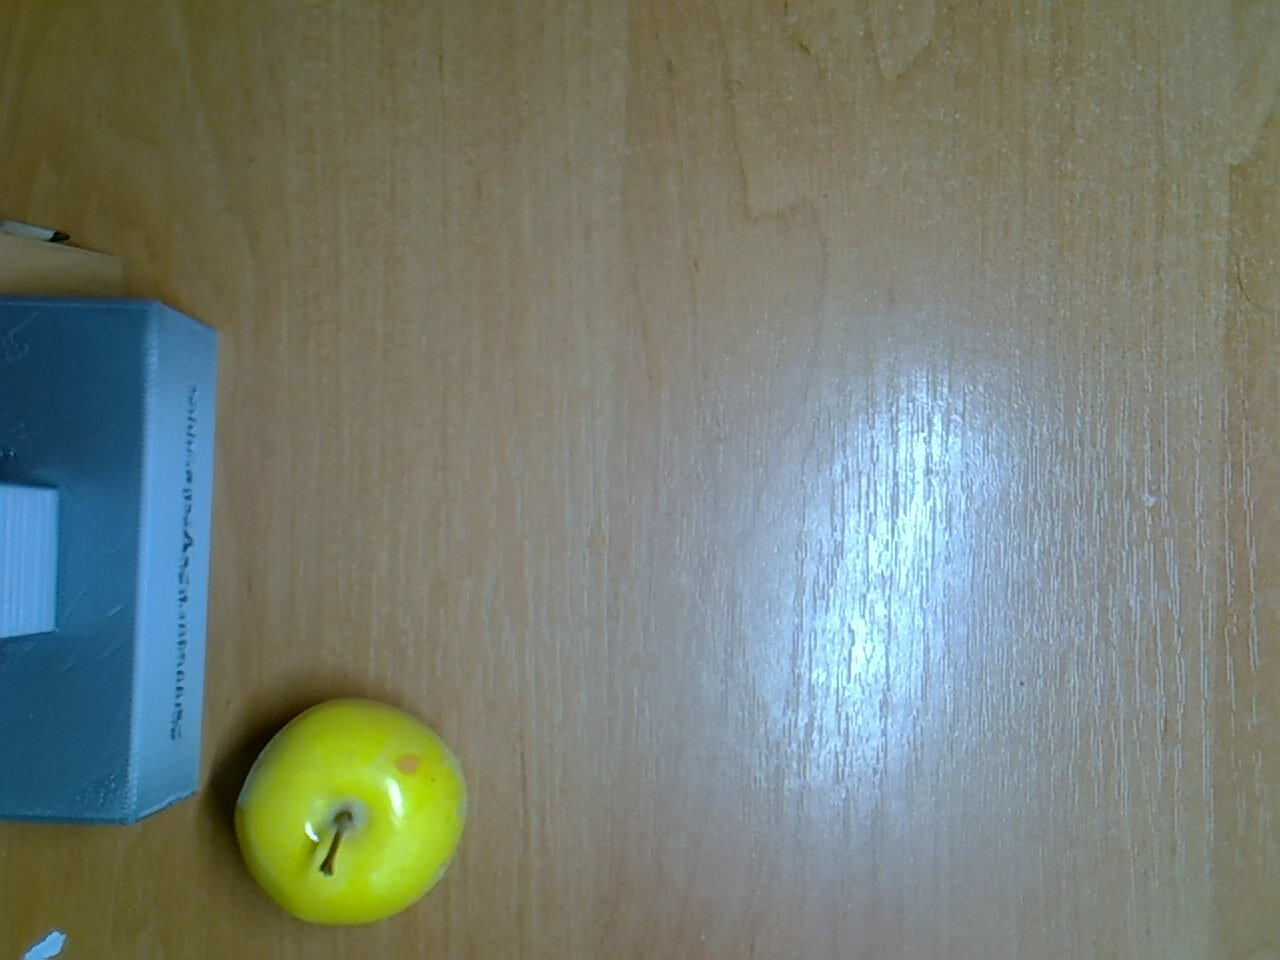apple: (224, 685, 478, 931)
